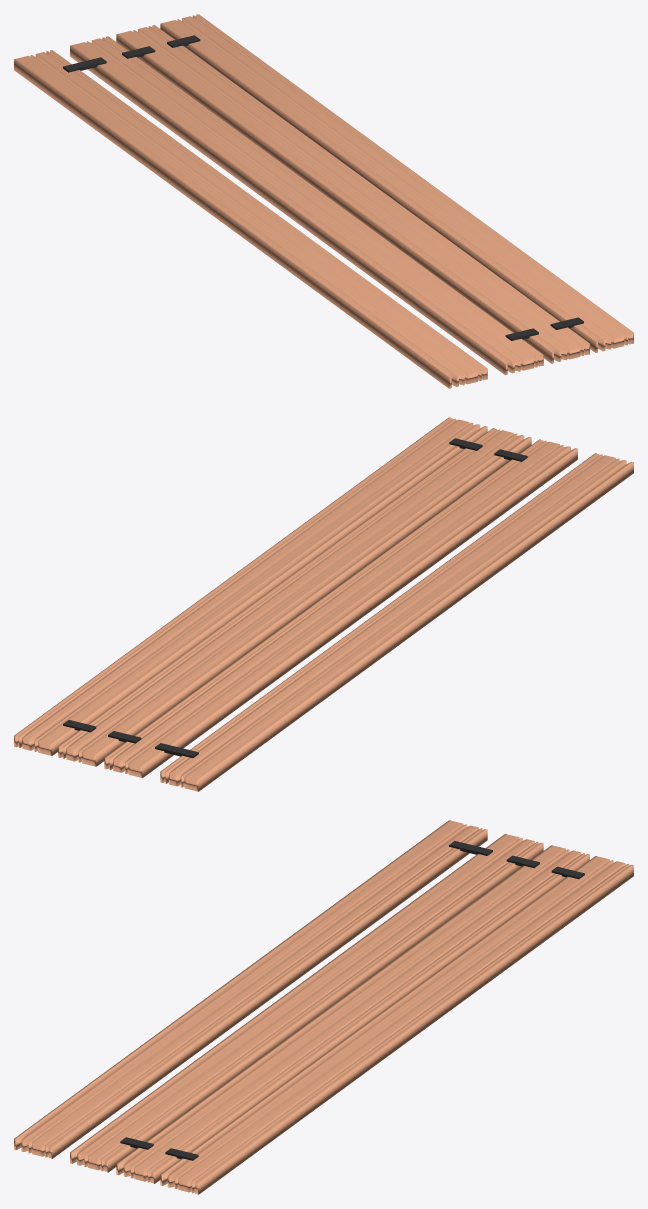
Rendered from PlankLong.fbx.
3 renders of one model, top to bottom at view 1: azimuth 30°, elevation 25°; view 2: azimuth 150°, elevation 25°; view 3: azimuth 330°, elevation 25°, orthographic.
Parts seen in each view (by area): view 1: PlankLong; view 2: PlankLong; view 3: PlankLong.
Boxes of the visible parts, bbox=[...] form: PlankLong: bbox=[14, 14, 633, 388]; PlankLong: bbox=[14, 417, 633, 791]; PlankLong: bbox=[14, 820, 633, 1194].
Size of the model in its own units: 331 by 22.03 by 1351.
